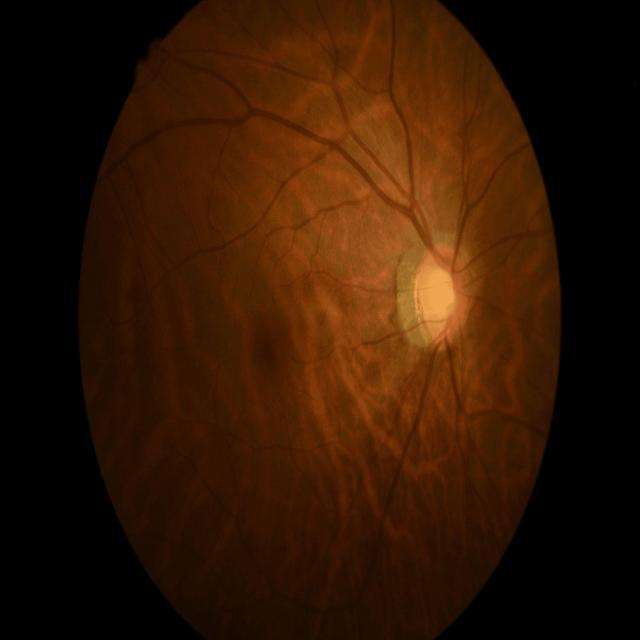cup: (427, 260, 457, 334)
disk: (413, 245, 472, 347)
